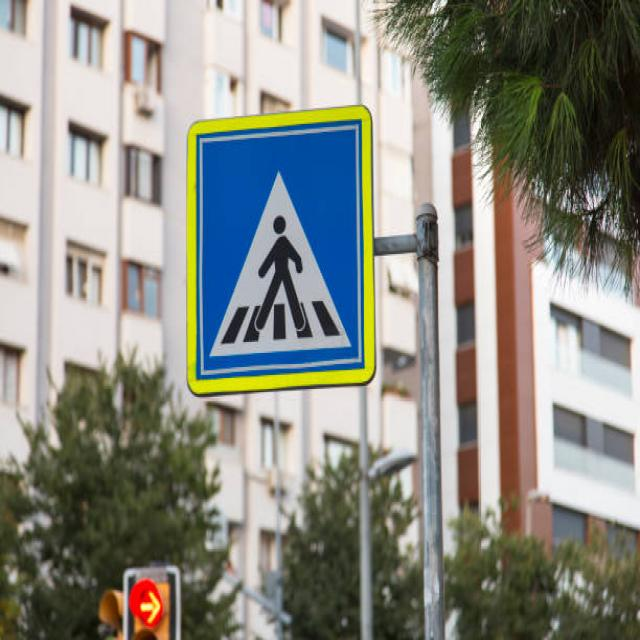crosswalk: (189, 116, 365, 382)
